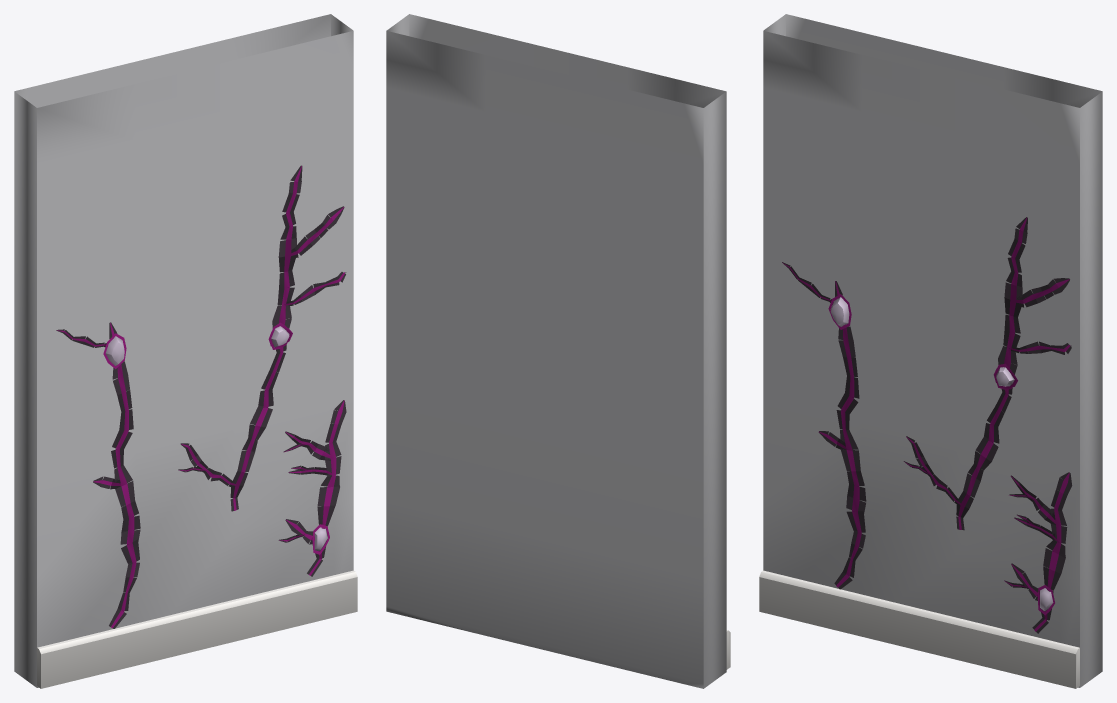
File: grav_vegg_som.glb
3 views of the same model, side by side, from view 1: azimuth 30°, elevation 25°; view 2: azimuth 150°, elevation 25°; view 3: azimuth 330°, elevation 25° (orthographic).
Parts seen in each view (by area): view 1: far, grav_vegg_som; view 2: far; view 3: far, grav_vegg_som.
Part boxes in pixels (x1,y1,x2,y2): far: [14, 14, 353, 687]; grav_vegg_som: [37, 322, 357, 688]; far: [386, 14, 726, 688]; far: [763, 14, 1102, 687]; grav_vegg_som: [759, 294, 1079, 688].
Bounding box in the file's own units: 3.2 × 5.6 × 0.4824.
